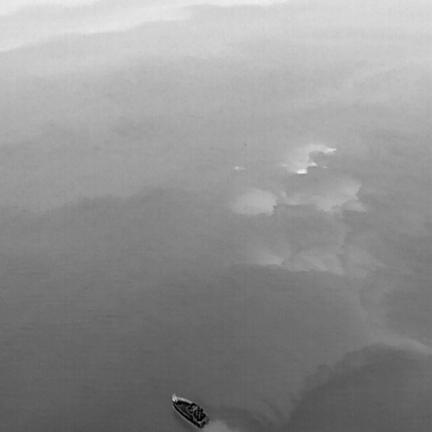flukeprints: (296, 168, 306, 174)
